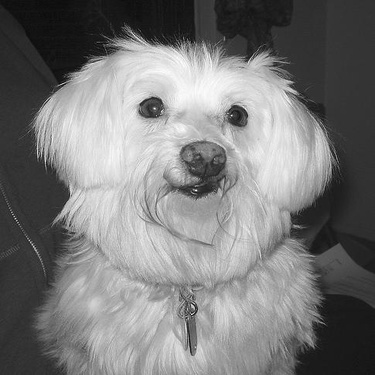dog: (20, 19, 345, 373)
